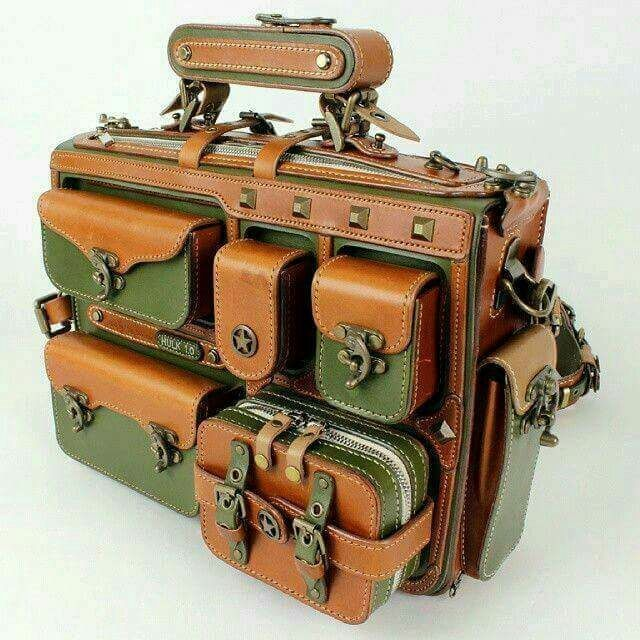cuero: (39, 20, 602, 625)
